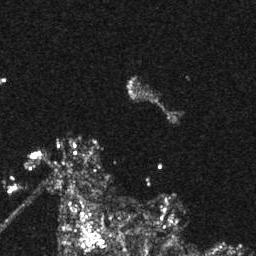ship: (8, 182, 20, 195), (28, 149, 43, 159)
